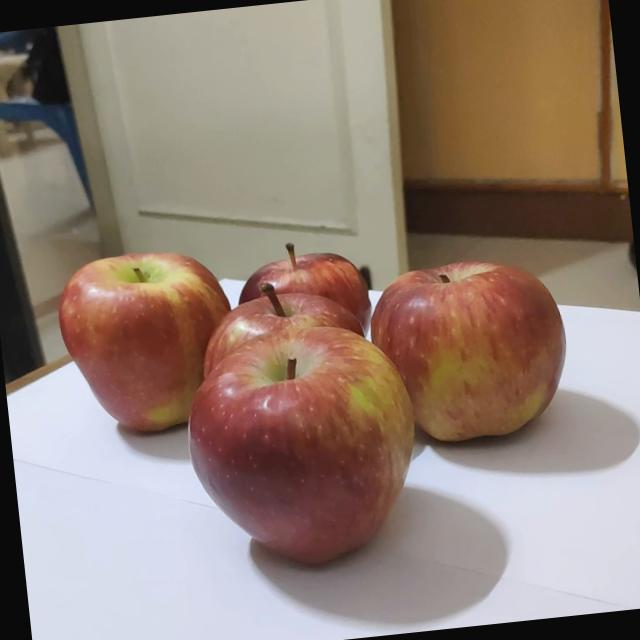apple: (162, 294, 426, 568), (363, 232, 577, 443), (44, 224, 243, 440), (179, 252, 366, 382), (225, 218, 377, 338)
